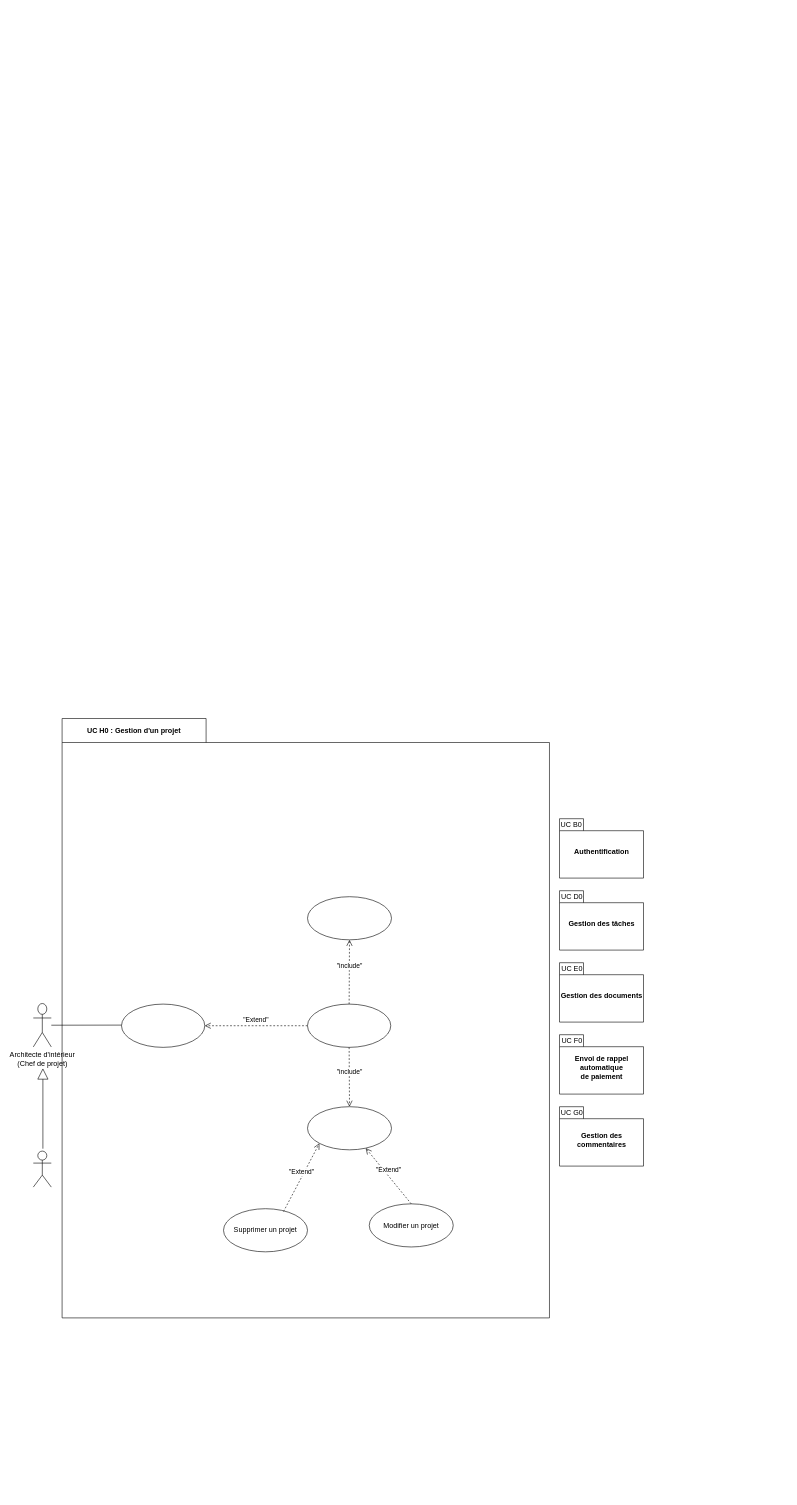
This 797x1505 diagram has some shape labels left out. Here are the shapes that lost their labels. From the top down, the centre of each, then its label:
At point 349,918: "Ajouter un projet".
At point 163,1025: "Afficher la page d'accueil".
At point 349,1025: "Gérer un projet".
At point 349,1128: "Consulter un projet".
At point 42,1168: "Dirigeant".
